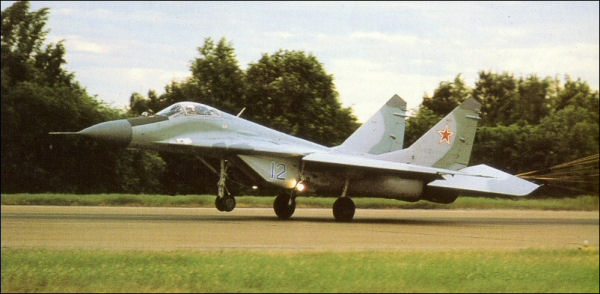Mig-29: (64, 53, 521, 237)
